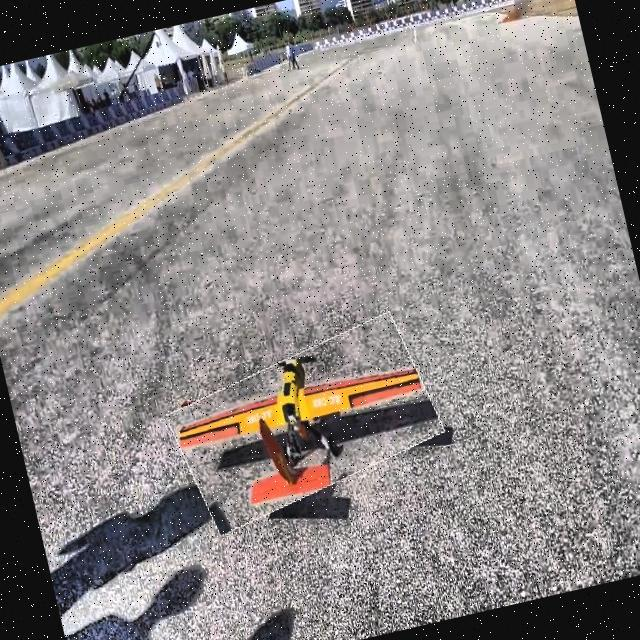iha: (155, 325, 447, 518)
